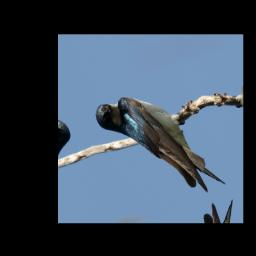Swallow: (91, 79, 233, 215)
